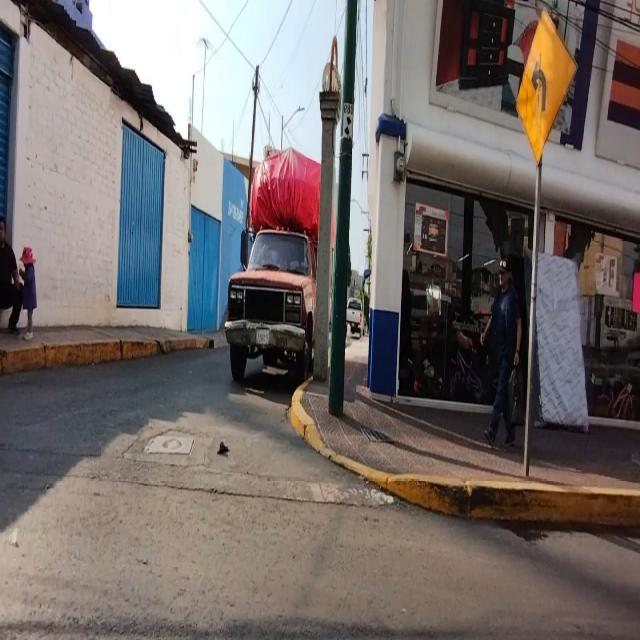adult: (480, 259, 522, 449), (0, 216, 24, 334)
